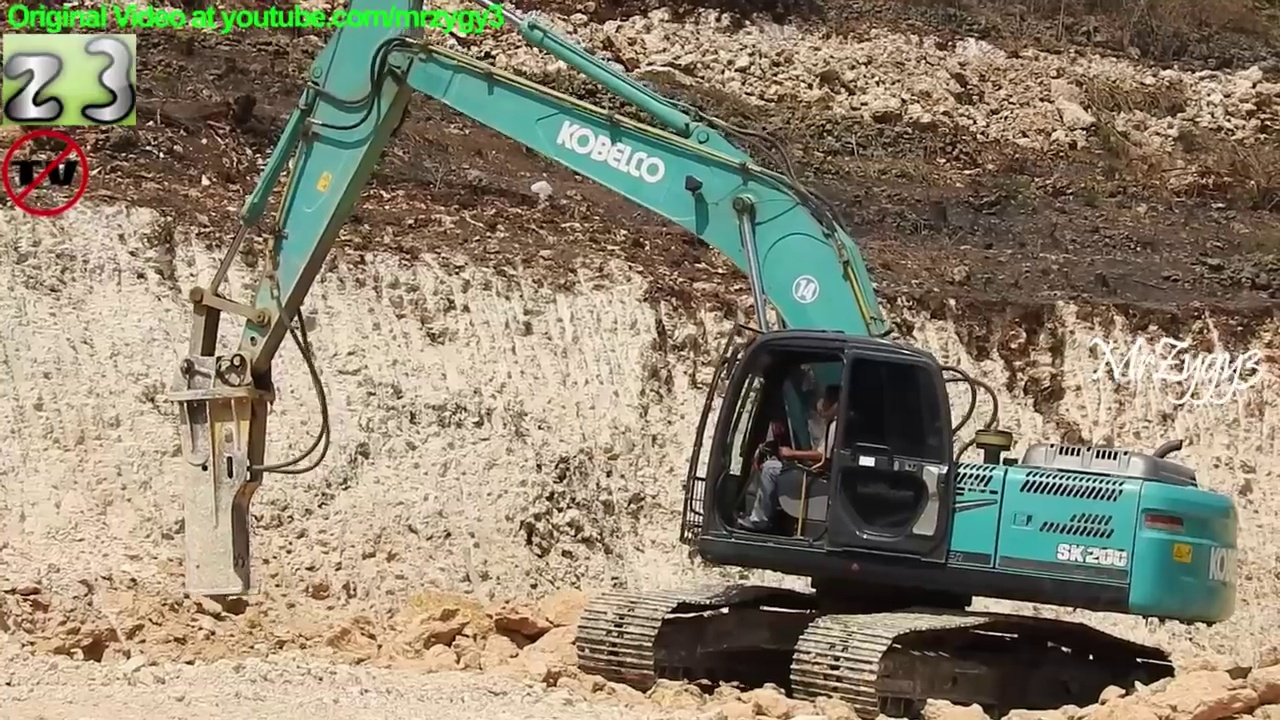excavator breaker: (149, 1, 1250, 720)
